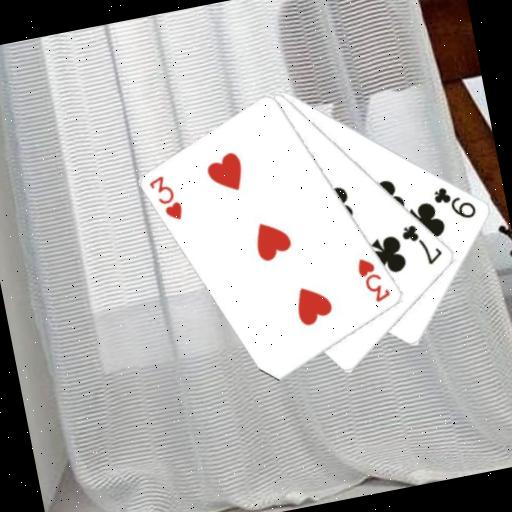3H: (145, 170, 187, 226), (353, 251, 394, 307)
7C: (397, 217, 446, 271)
9C: (429, 178, 480, 226)
